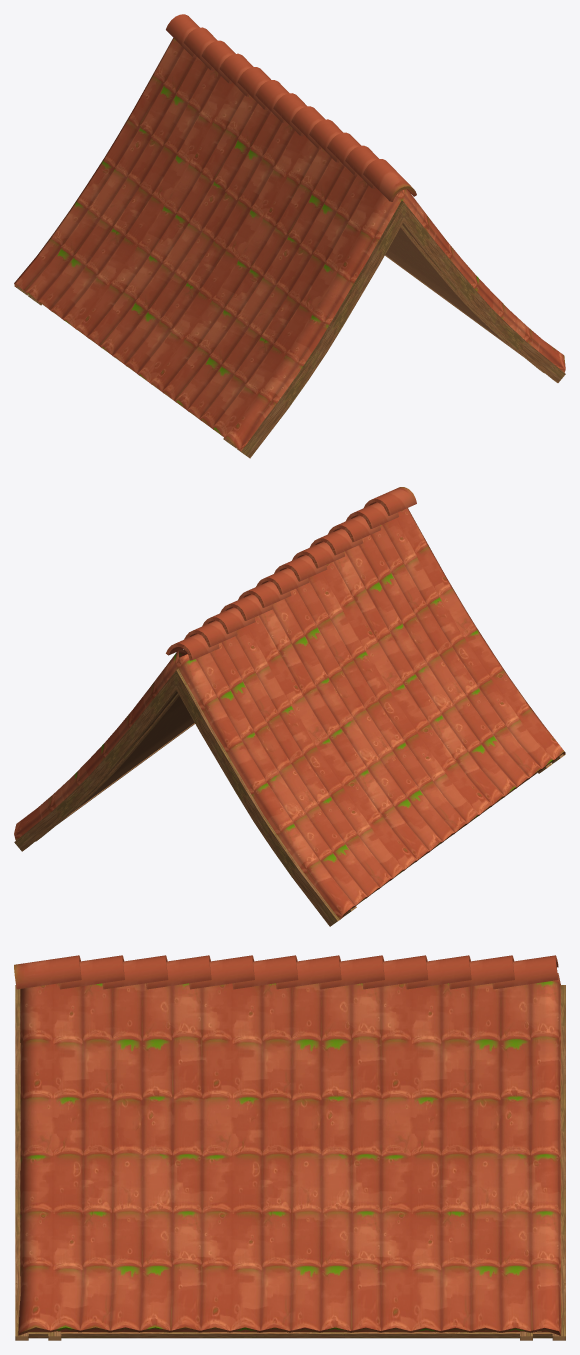
File: Roof_RoundTiles_6x8.gltf
The picture shows the model from 3 angles, top to bottom: view 1: azimuth 30°, elevation 25°; view 2: azimuth 150°, elevation 25°; view 3: azimuth 270°, elevation 25°; orthographic projection. The views are drawn at different scales.
Visible parts, largest first — view 1: Roof_RoundTiles_6x8; view 2: Roof_RoundTiles_6x8; view 3: Roof_RoundTiles_6x8.
Part boxes in pixels (x1=…): Roof_RoundTiles_6x8: x1=14, y1=14, x2=565, y2=458; Roof_RoundTiles_6x8: x1=14, y1=487, x2=565, y2=926; Roof_RoundTiles_6x8: x1=14, y1=955, x2=565, y2=1340.
Bounding box in the file's own units: 8.25 × 5.67 × 9.68.
2 materials, 2 textured.
